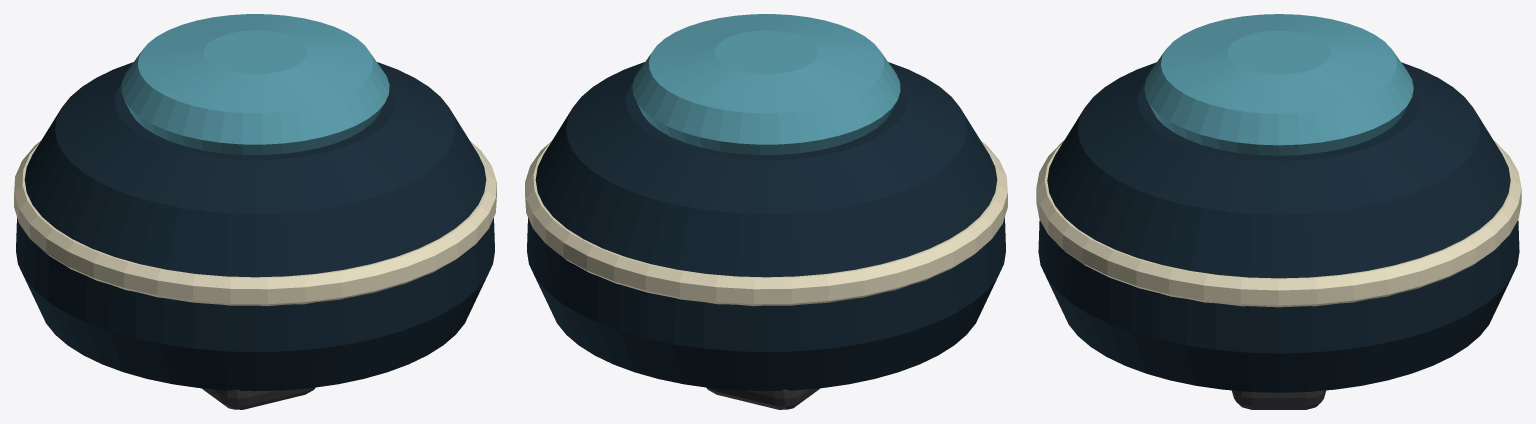
File: TOURNAMENT_MINE.hi.glb
3 views of the same model, side by side, from view 1: azimuth 30°, elevation 25°; view 2: azimuth 150°, elevation 25°; view 3: azimuth 270°, elevation 25° (orthographic).
Visible parts, largest first — view 1: Body_Mesh; view 2: Body_Mesh; view 3: Body_Mesh.
Boxes of the visible parts, x1,y1,x2,y2 form: Body_Mesh: [14, 14, 496, 409]; Body_Mesh: [525, 14, 1007, 409]; Body_Mesh: [1036, 14, 1521, 409].
Bounding box in the file's own units: 0.234 × 0.146 × 0.234.
Materials: 1 (1 with a texture image).
